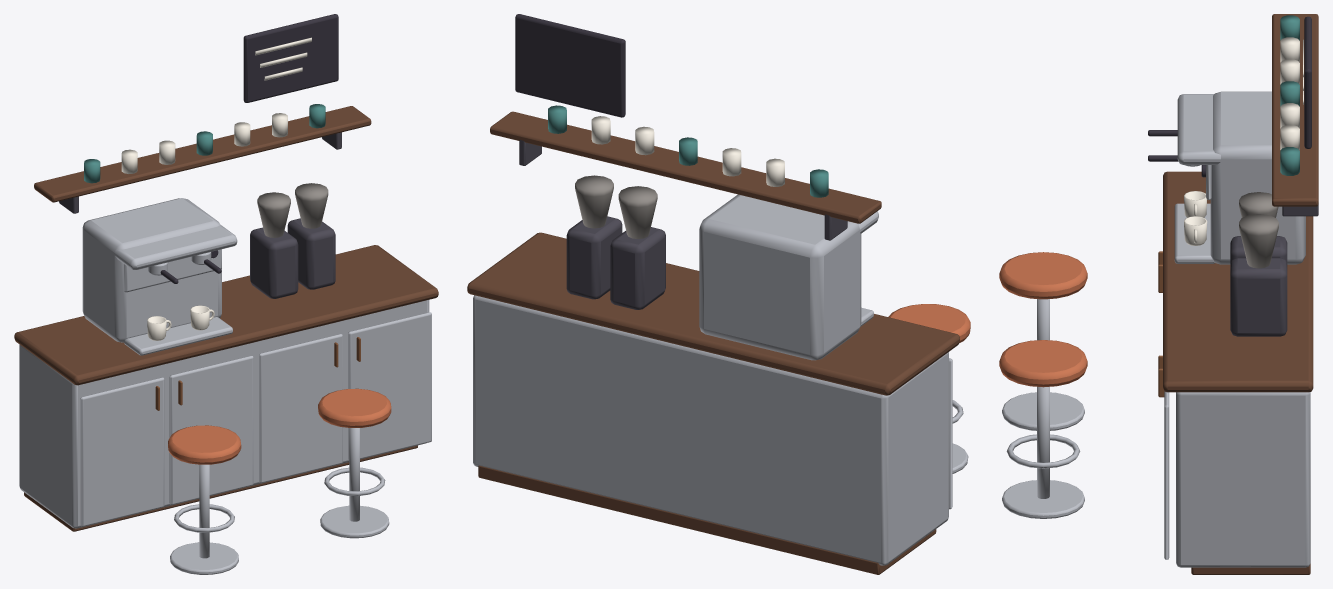
File: espresso_l3.glb
The picture shows the model from 3 angles, left to right: view 1: azimuth 30°, elevation 25°; view 2: azimuth 150°, elevation 25°; view 3: azimuth 270°, elevation 25°; orthographic projection. The views are drawn at different scales.
Visible parts, largest first — view 1: espresso_l3; view 2: espresso_l3; view 3: espresso_l3.
Part boxes in pixels (box(x1,y1,x2,y2)): espresso_l3: box(14, 14, 438, 574); espresso_l3: box(467, 14, 970, 574); espresso_l3: box(999, 14, 1318, 574).
Size of the model in its own units: 1.94 by 2.07 by 1.23.
